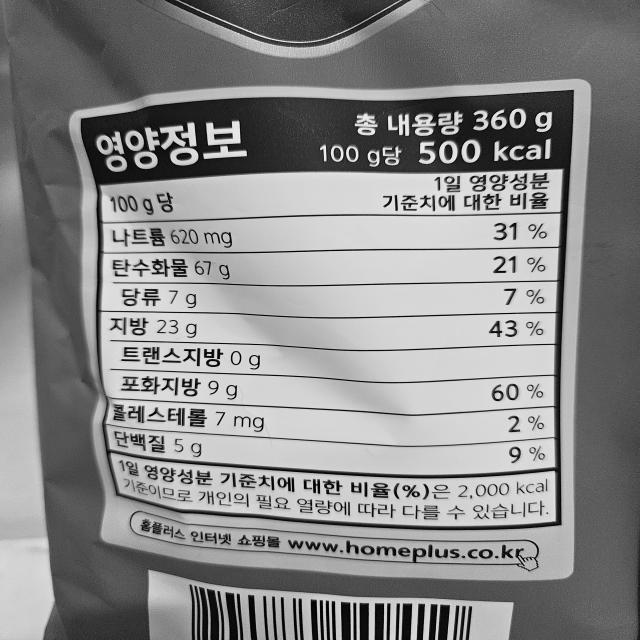Nutrition Label: (66, 71, 583, 536)
